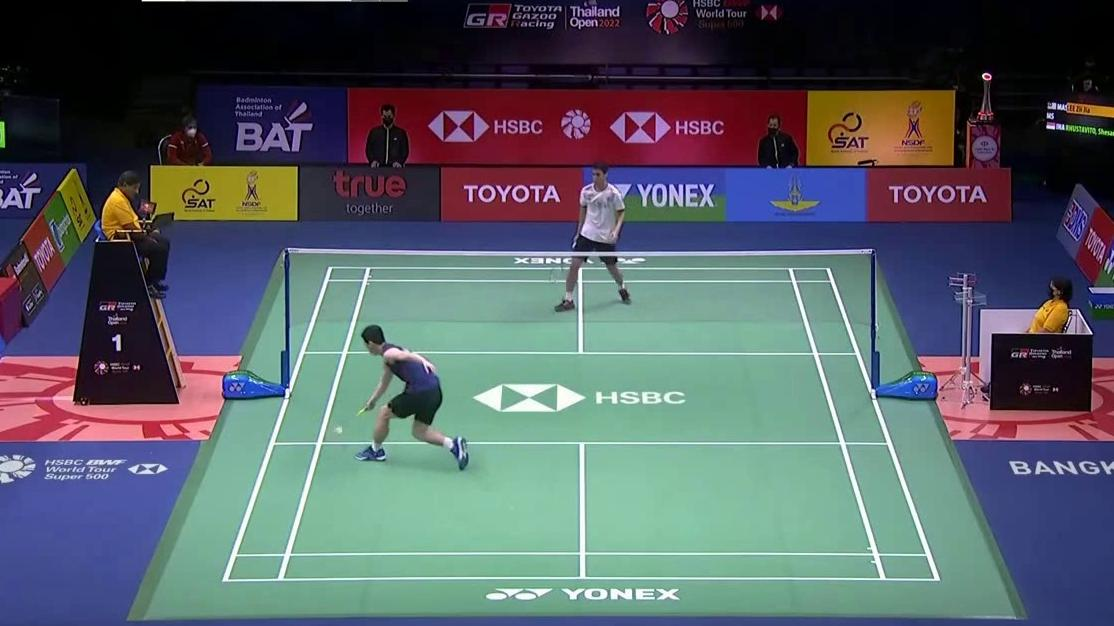racket: (314, 403, 373, 441), (548, 236, 581, 284)
shuttle: (334, 425, 343, 433)
